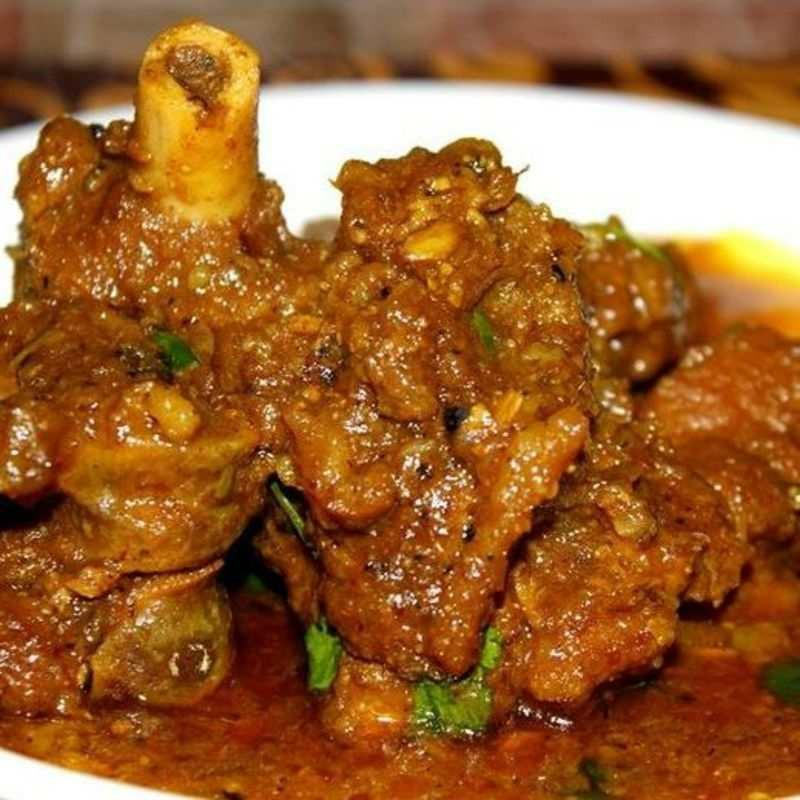MuttonCurry: (0, 1, 799, 800)
